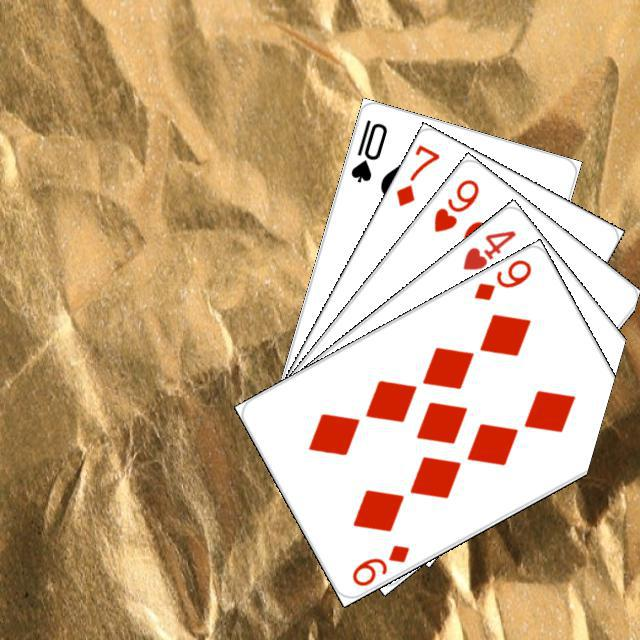10s: (345, 114, 389, 185)
4h: (457, 225, 518, 272)
7d: (390, 140, 442, 209)
9d: (468, 254, 533, 303), (346, 539, 411, 588)
9h: (428, 174, 481, 235)
